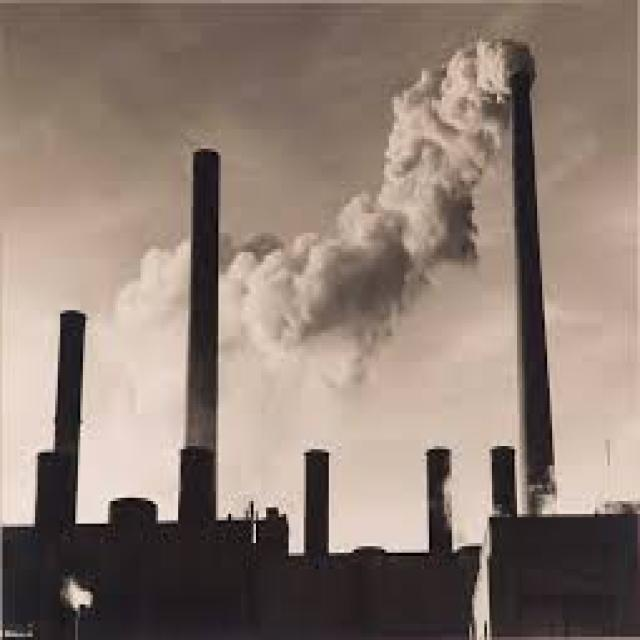Smoke: (220, 22, 514, 376)
